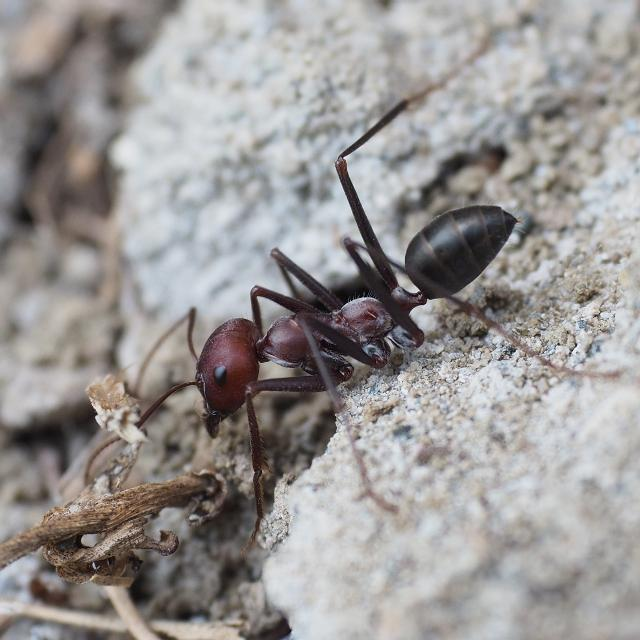Cataglyphis: (156, 152, 554, 456)
